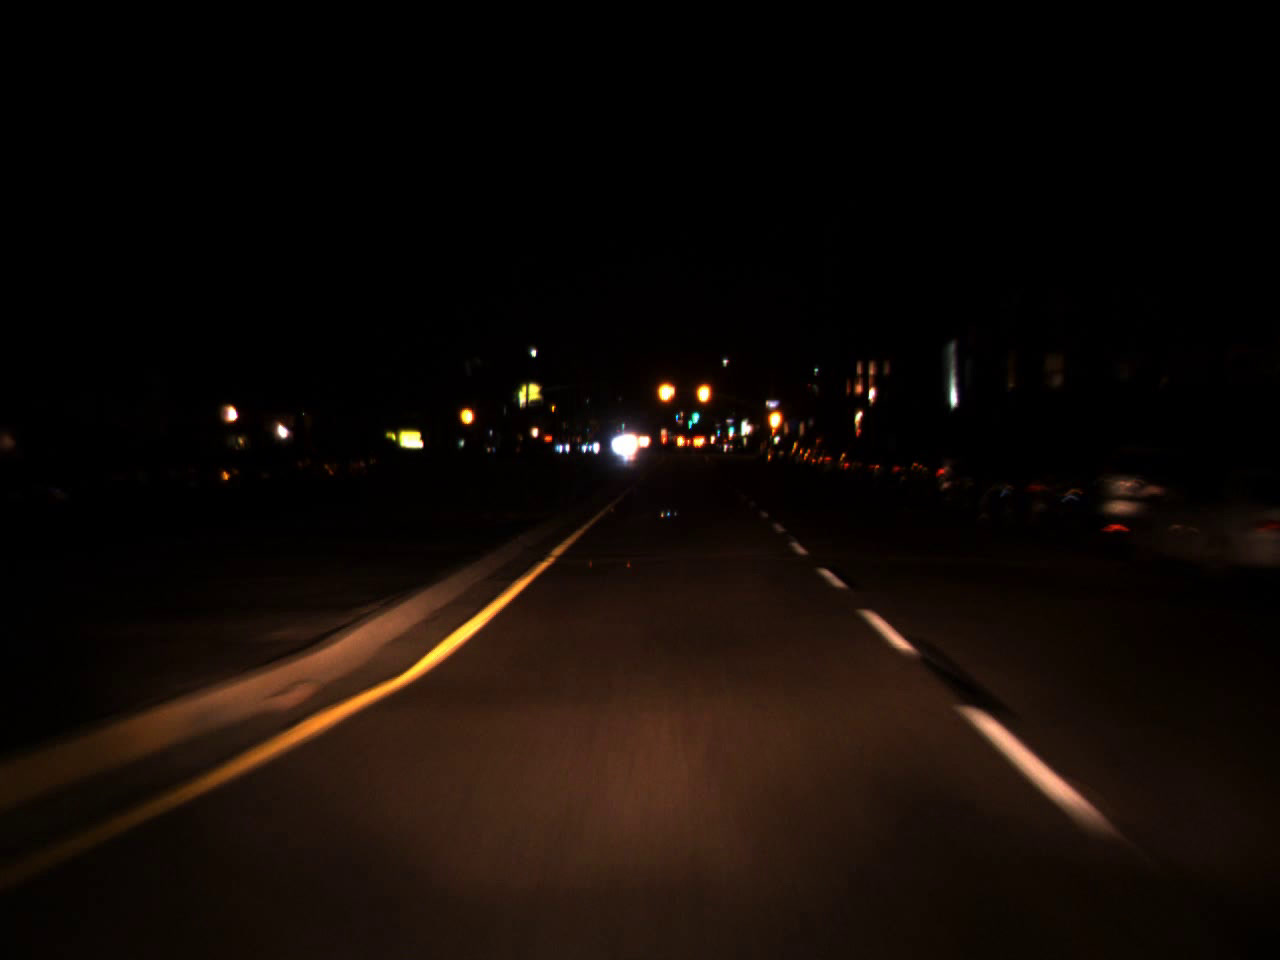go: (690, 403, 697, 427), (714, 421, 721, 436), (727, 422, 734, 434)
warning: (653, 369, 678, 414), (693, 369, 714, 414), (763, 399, 784, 436), (457, 396, 476, 431)
